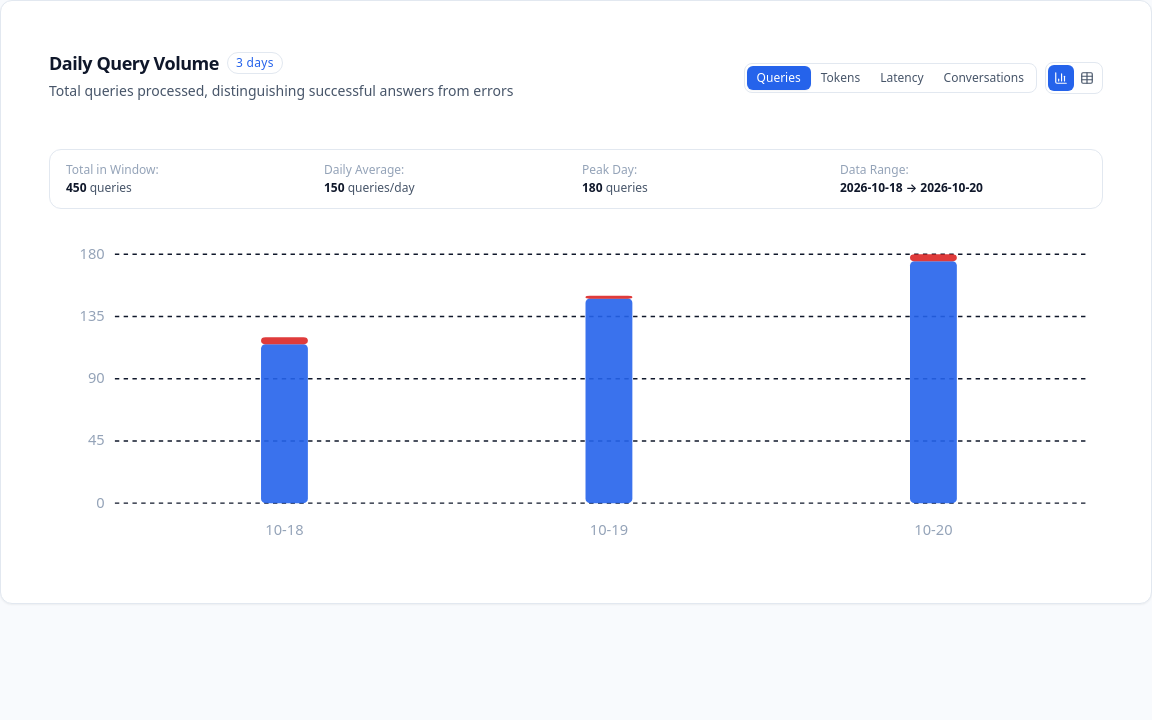
Test: Admin Analytics & Audit Log UI — Milestone 6 Integration › 2. TrendChart Component › renders pure SVG chart with accurate day bars and switches to accessible table view
expect the heading "Daily Query Volume" is shown: met, box [49,49,219,77]
expect the text "3 days" is shown: met, box [236,55,274,71]
Toggle to accessible table view
Click the button named "Table View" at [1087, 78], box [1074,65,1100,91]
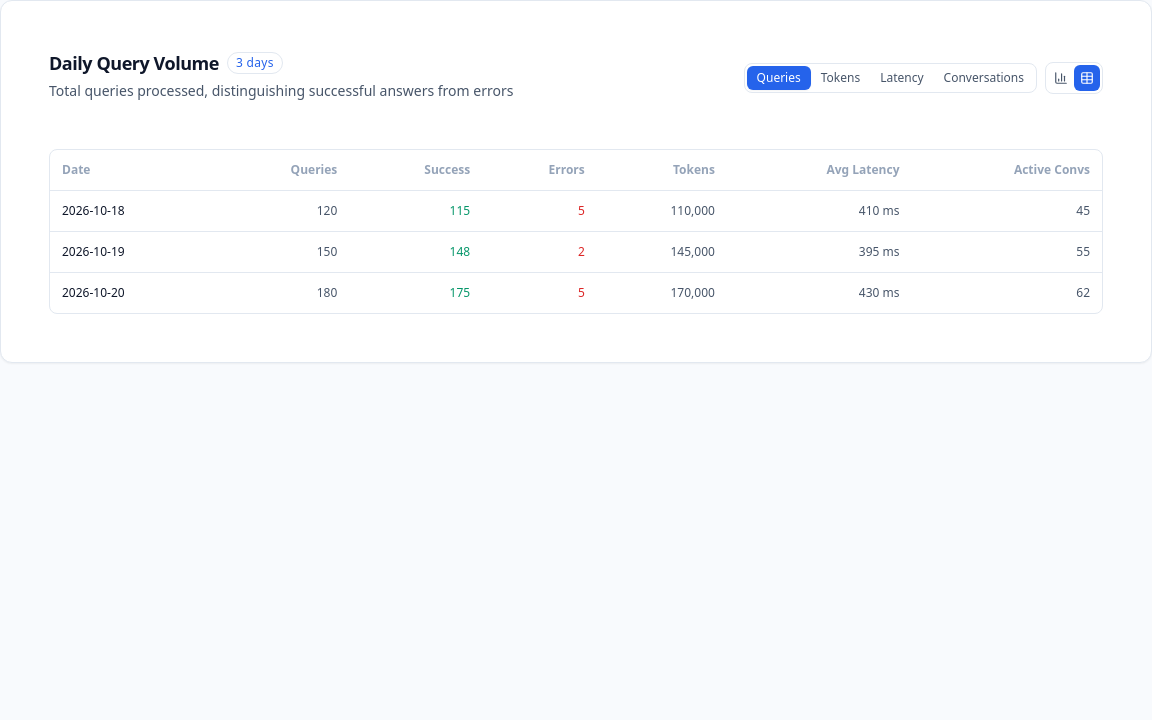
expect the text "2026-10-18" is shown: met, box [50,190,215,232]
expect the table is shown: met, box [50,150,1102,313]
expect the text "2026-10-19" is shown: met, box [50,232,215,272]
